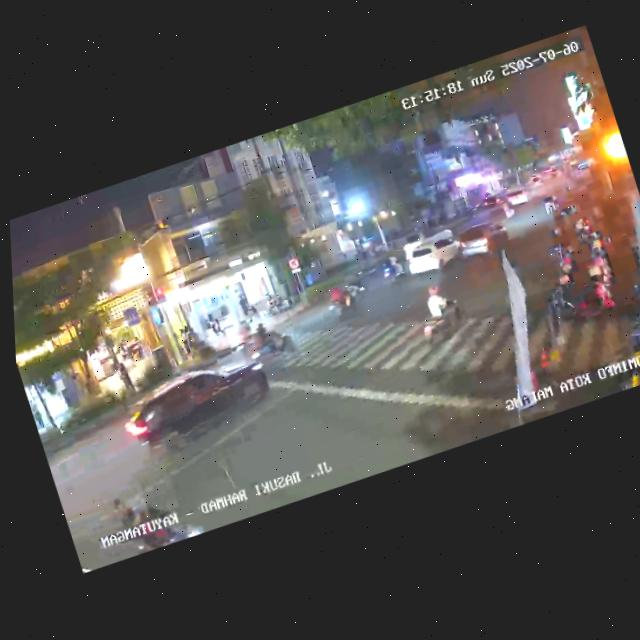car: (116, 346, 282, 465), (400, 226, 468, 283), (453, 213, 516, 266), (500, 184, 532, 213)
motorcycle: (407, 274, 470, 350), (238, 313, 296, 368), (321, 279, 359, 322), (376, 250, 410, 287), (339, 266, 370, 299), (499, 196, 517, 221)
person: (115, 357, 135, 394), (28, 397, 46, 432), (236, 292, 255, 323), (177, 325, 192, 356), (213, 313, 228, 336), (206, 317, 219, 337)
